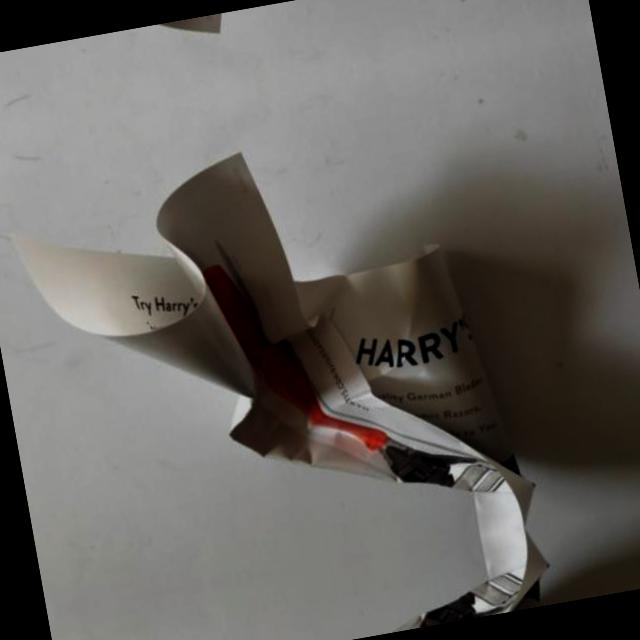paper: (0, 100, 557, 607), (72, 521, 571, 640), (0, 0, 465, 81)
